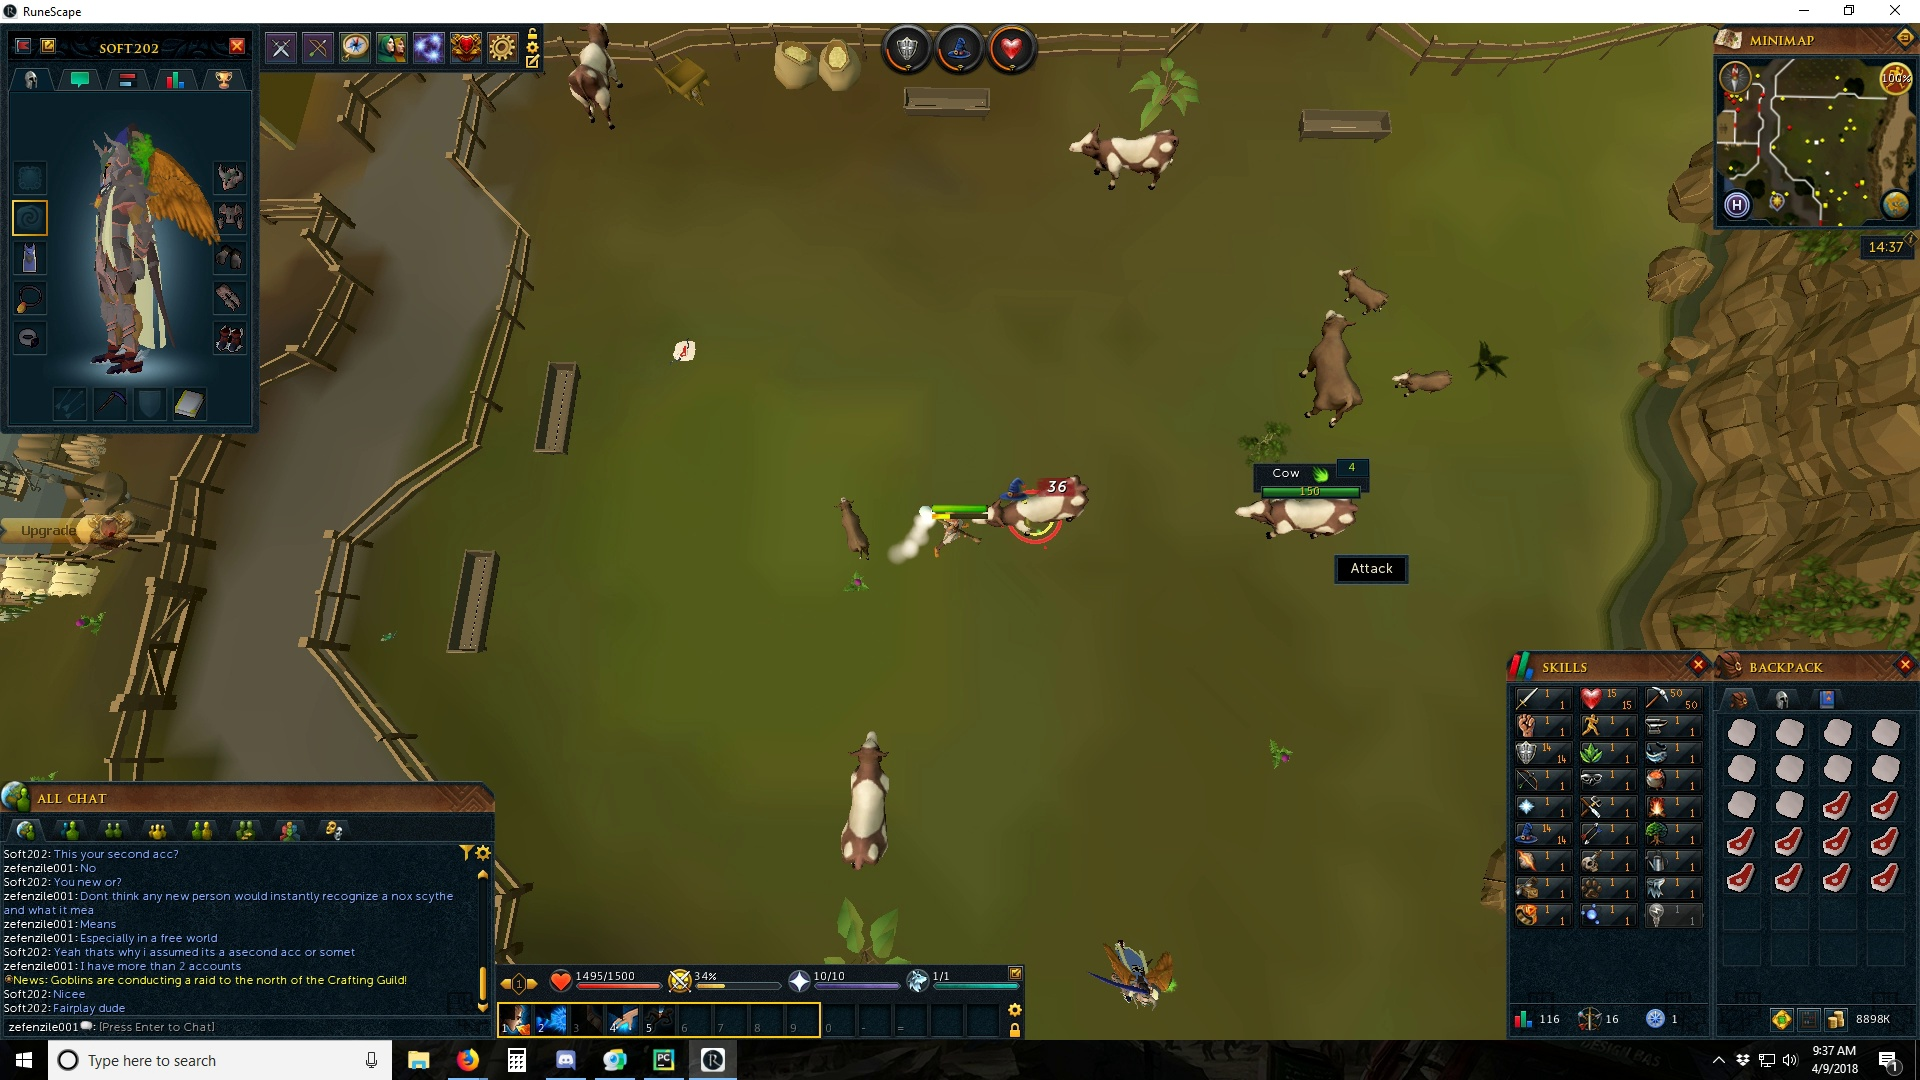calf: (1335, 265, 1393, 316), (832, 495, 874, 560), (1389, 369, 1453, 400)
cow: (837, 727, 895, 872), (1065, 123, 1179, 193), (1298, 309, 1364, 429), (975, 473, 1089, 539), (564, 22, 626, 135), (1232, 500, 1360, 541)
cow_drop: (669, 334, 702, 364)
